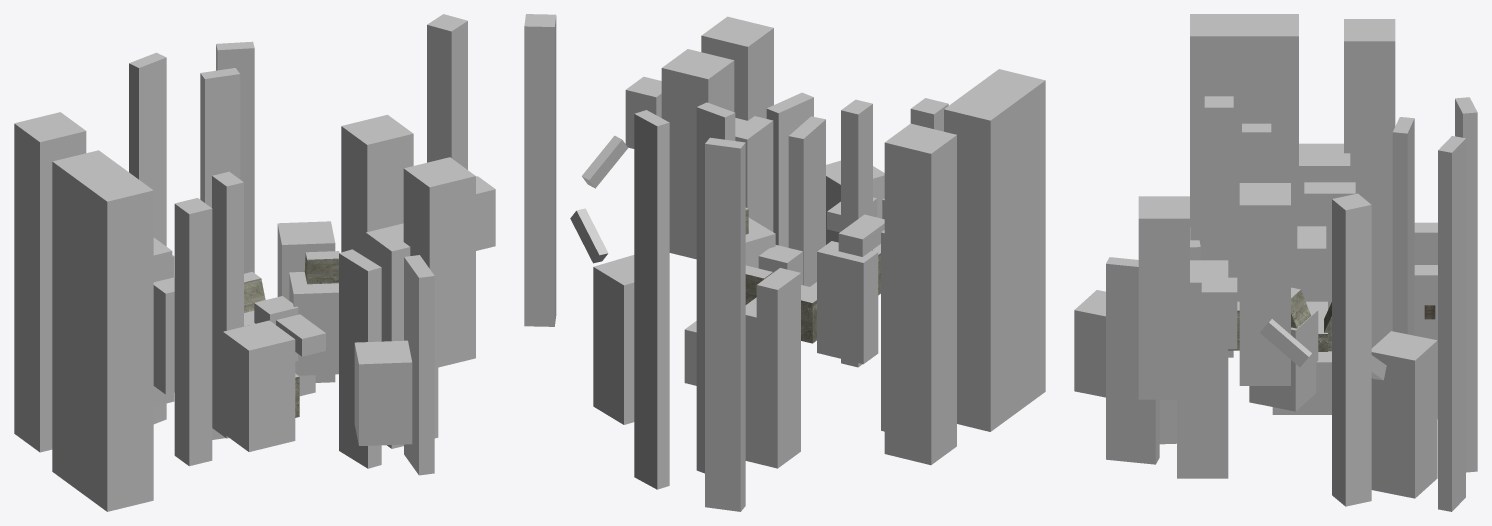
The model's file is SM_Gutenberg_02.fbx.
The picture shows the model from 3 angles, left to right: view 1: azimuth 30°, elevation 25°; view 2: azimuth 150°, elevation 25°; view 3: azimuth 270°, elevation 25°; orthographic projection.
Visible parts, largest first — view 1: gutenberg.002; view 2: gutenberg.002; view 3: gutenberg.002.
Part boxes in pixels (x1,y1,x2,y2): gutenberg.002: (14, 14, 495, 511); gutenberg.002: (524, 14, 1045, 511); gutenberg.002: (1074, 14, 1477, 511).
Bounding box in the file's own units: 10969 × 9136 × 8796.
